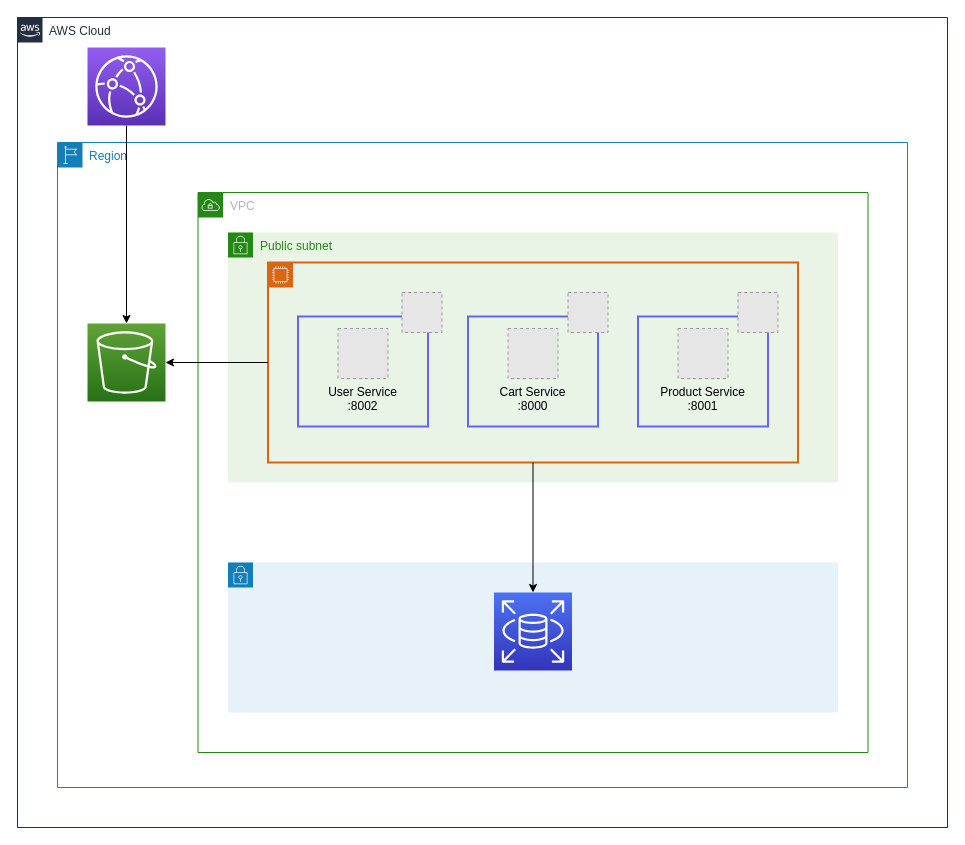
This 965x845 diagram has some shape labels left out. Grey dashed boxes stand in for pictures. The shapes that lost their labels are listed below. From the top down, each one's box as (x1, y1, x2, y2) in pixels, then its label:
(266, 261, 798, 463): EC2 instance
(227, 562, 838, 712): Private subnet
